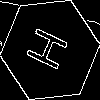H: (25, 25, 77, 77)
